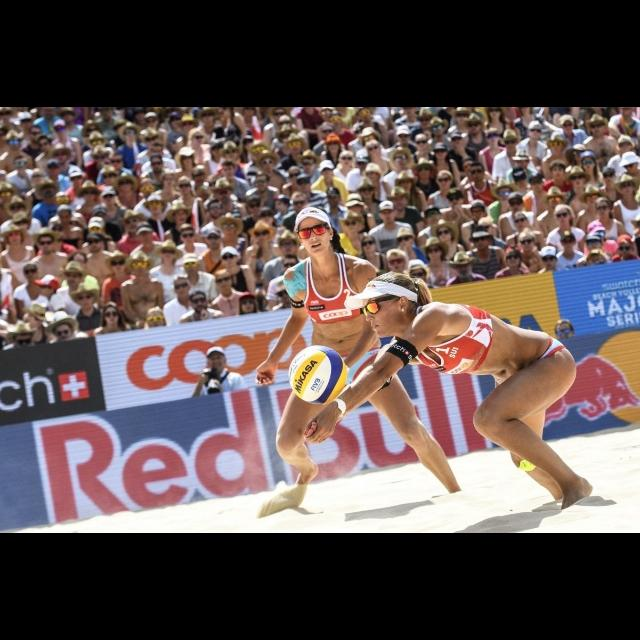head: (359, 271, 418, 339), (298, 210, 334, 256), (278, 232, 300, 256), (6, 196, 30, 218), (409, 264, 429, 288), (188, 290, 208, 314), (145, 307, 165, 331), (208, 346, 226, 372), (250, 140, 270, 163), (53, 321, 73, 344), (554, 204, 574, 226), (379, 203, 399, 225), (281, 254, 301, 276), (170, 203, 190, 225), (138, 178, 158, 200), (76, 288, 96, 310), (540, 246, 558, 270), (556, 320, 574, 344), (182, 252, 200, 276), (88, 217, 106, 240), (472, 230, 492, 250), (220, 246, 240, 266), (37, 234, 57, 254), (38, 278, 58, 298), (569, 168, 587, 190), (478, 217, 496, 239), (204, 228, 222, 250), (215, 271, 233, 293), (178, 224, 196, 246), (110, 253, 128, 275), (103, 303, 121, 325), (130, 255, 148, 277), (453, 258, 472, 278), (215, 182, 232, 204), (470, 202, 486, 225), (547, 192, 565, 212), (496, 183, 514, 203), (436, 224, 454, 244), (586, 233, 604, 253), (397, 230, 415, 250), (346, 195, 364, 215), (549, 134, 565, 156), (520, 231, 536, 253), (470, 162, 486, 184), (220, 217, 238, 236), (253, 225, 270, 245), (245, 196, 262, 216), (173, 276, 190, 296), (278, 115, 294, 136), (589, 118, 607, 136), (271, 106, 289, 124), (504, 250, 522, 268), (426, 242, 444, 260), (161, 243, 179, 261), (66, 268, 84, 286), (5, 228, 23, 246), (513, 212, 529, 232), (430, 117, 446, 137), (448, 189, 464, 209), (392, 192, 408, 212), (302, 155, 318, 175), (296, 173, 312, 193), (292, 192, 308, 212), (278, 285, 294, 305), (240, 294, 256, 314), (224, 142, 240, 162), (188, 128, 204, 148), (144, 112, 160, 132), (57, 205, 73, 225), (6, 131, 22, 151), (513, 167, 527, 189), (93, 144, 107, 166), (88, 132, 105, 150), (49, 222, 66, 240), (148, 197, 164, 216), (118, 174, 134, 193), (620, 176, 634, 197), (30, 308, 44, 329), (356, 107, 374, 123), (618, 137, 634, 155), (602, 168, 618, 186), (572, 145, 588, 163), (586, 234, 602, 252), (508, 196, 524, 214), (469, 164, 485, 182), (434, 143, 450, 161), (426, 208, 442, 226), (560, 233, 576, 251), (394, 151, 410, 169), (366, 164, 382, 182), (359, 182, 375, 200), (338, 150, 354, 168), (260, 208, 276, 226), (143, 130, 159, 148), (148, 142, 164, 160), (123, 126, 139, 144), (102, 168, 118, 186), (93, 206, 109, 224), (88, 234, 104, 252), (46, 160, 62, 178), (561, 116, 575, 136), (363, 128, 377, 148), (280, 126, 294, 146), (582, 152, 596, 172), (618, 237, 632, 257), (504, 132, 518, 152), (397, 126, 411, 146), (367, 140, 381, 160), (327, 134, 341, 154), (288, 135, 302, 155), (138, 225, 152, 245), (70, 168, 84, 188), (82, 182, 96, 202), (0, 185, 14, 205), (72, 252, 86, 272), (274, 195, 290, 212), (200, 108, 217, 124), (178, 177, 192, 196), (53, 148, 69, 164), (456, 108, 470, 126), (624, 157, 638, 175), (586, 189, 600, 207), (552, 162, 566, 180), (529, 174, 543, 192), (485, 129, 499, 147), (468, 116, 482, 134), (438, 172, 452, 190), (399, 174, 413, 192), (362, 236, 376, 254), (288, 166, 302, 184), (260, 155, 274, 173), (222, 162, 236, 180), (208, 200, 222, 218), (54, 120, 68, 138), (530, 120, 542, 140), (356, 153, 369, 171), (320, 106, 334, 122), (321, 124, 335, 140), (353, 122, 367, 138), (516, 154, 530, 170), (210, 142, 224, 158), (182, 118, 196, 134), (162, 173, 176, 189), (110, 154, 124, 170), (24, 264, 38, 280), (256, 174, 268, 192), (104, 189, 116, 207), (331, 114, 344, 130), (180, 152, 193, 168), (61, 108, 74, 124), (38, 136, 51, 152), (15, 156, 28, 172), (418, 163, 430, 180), (42, 106, 56, 120), (420, 112, 432, 128), (451, 133, 463, 149), (416, 134, 428, 150), (328, 192, 340, 208), (322, 162, 334, 178), (218, 108, 234, 120), (194, 171, 206, 187), (152, 155, 164, 171), (20, 114, 32, 130), (622, 107, 636, 119), (488, 107, 502, 119), (403, 106, 417, 118), (243, 136, 255, 150), (170, 115, 182, 129), (102, 108, 115, 120), (244, 106, 256, 118), (59, 192, 70, 204), (520, 106, 532, 115)
person: (300, 264, 596, 522), (250, 206, 480, 520), (187, 345, 250, 493), (533, 318, 597, 440), (389, 258, 449, 376), (45, 258, 105, 372), (258, 226, 316, 338), (118, 252, 174, 361), (364, 198, 418, 306), (459, 225, 511, 335), (490, 128, 548, 226), (542, 202, 590, 318), (264, 251, 318, 353), (442, 250, 494, 354), (146, 238, 197, 340), (10, 262, 60, 366), (383, 225, 433, 328), (44, 310, 94, 412), (413, 236, 465, 334), (376, 186, 428, 282), (240, 220, 288, 322), (204, 212, 256, 306), (65, 282, 117, 376), (556, 140, 604, 240), (207, 267, 257, 363), (178, 288, 228, 384), (135, 305, 187, 397), (195, 227, 243, 326), (75, 232, 129, 320), (24, 226, 70, 328), (534, 184, 580, 284), (530, 244, 576, 344), (211, 245, 261, 337), (32, 222, 82, 314), (171, 252, 223, 340), (15, 302, 61, 401), (97, 250, 145, 344), (464, 215, 512, 308), (138, 194, 185, 288), (570, 183, 616, 279), (348, 235, 396, 327), (504, 225, 548, 325), (462, 160, 512, 248), (160, 276, 210, 364), (125, 220, 175, 308), (78, 216, 128, 304), (33, 274, 76, 376), (195, 195, 242, 288), (458, 200, 504, 294), (286, 172, 332, 266), (271, 131, 319, 221), (278, 191, 322, 289), (90, 300, 140, 386), (0, 224, 46, 316), (414, 204, 462, 292), (44, 190, 92, 278), (205, 176, 248, 274), (570, 148, 612, 248), (496, 190, 542, 280), (355, 139, 401, 229), (266, 112, 310, 206), (58, 252, 102, 346), (538, 130, 582, 222), (428, 218, 474, 306), (380, 145, 422, 241), (338, 192, 380, 288), (492, 243, 536, 334), (0, 195, 46, 282), (340, 152, 386, 238), (354, 161, 400, 247), (312, 188, 358, 274), (46, 202, 88, 296), (504, 212, 546, 304), (245, 207, 287, 299), (558, 164, 598, 260), (80, 108, 136, 176), (578, 112, 622, 198), (351, 126, 394, 214), (434, 187, 478, 273), (241, 168, 285, 254), (581, 220, 623, 310), (290, 148, 332, 238), (308, 158, 352, 242), (138, 140, 180, 228), (137, 152, 181, 236), (34, 158, 78, 242), (228, 292, 274, 372), (512, 106, 566, 174), (260, 107, 302, 193), (458, 156, 500, 242), (421, 116, 463, 202), (160, 202, 203, 286), (548, 112, 592, 194), (133, 128, 177, 210), (82, 204, 126, 286), (455, 112, 495, 202), (348, 177, 388, 267), (250, 148, 290, 238), (512, 119, 552, 208), (476, 127, 516, 216), (346, 120, 388, 204), (443, 130, 485, 214), (150, 170, 192, 254), (132, 177, 174, 261), (550, 230, 590, 318), (210, 158, 254, 238), (106, 171, 150, 251), (44, 142, 88, 222), (57, 164, 97, 252), (270, 124, 308, 216), (591, 166, 629, 258), (426, 168, 466, 255), (422, 141, 466, 219), (82, 143, 126, 221), (574, 233, 616, 314), (486, 183, 528, 263), (92, 186, 134, 266), (170, 145, 210, 227), (46, 118, 86, 200), (502, 149, 544, 227), (311, 121, 349, 207), (538, 158, 576, 244), (552, 320, 584, 422), (172, 224, 216, 298), (350, 107, 390, 187), (112, 120, 154, 196), (94, 151, 136, 227), (170, 175, 208, 258), (388, 170, 428, 248), (408, 108, 446, 190), (318, 132, 354, 218), (322, 110, 361, 188), (406, 157, 444, 237), (81, 130, 119, 210), (386, 125, 422, 209), (405, 130, 441, 214), (10, 110, 52, 182), (49, 107, 92, 177), (268, 286, 312, 354), (392, 106, 430, 184), (214, 140, 252, 218), (521, 171, 557, 253), (238, 196, 276, 272), (178, 127, 216, 203), (328, 149, 364, 229), (91, 164, 131, 236), (243, 138, 277, 222), (476, 107, 514, 181), (156, 111, 194, 185), (72, 178, 108, 256), (180, 165, 218, 238), (0, 129, 36, 205), (280, 166, 314, 246), (233, 128, 267, 208), (4, 153, 42, 224), (191, 107, 227, 181), (172, 113, 208, 187), (202, 140, 236, 218), (216, 107, 250, 183), (31, 106, 71, 170), (506, 166, 540, 240), (266, 195, 298, 273), (314, 107, 348, 179), (136, 110, 170, 180), (32, 134, 68, 200), (447, 108, 479, 182), (232, 106, 266, 174), (160, 111, 192, 180), (236, 135, 268, 203), (1, 181, 26, 259)
